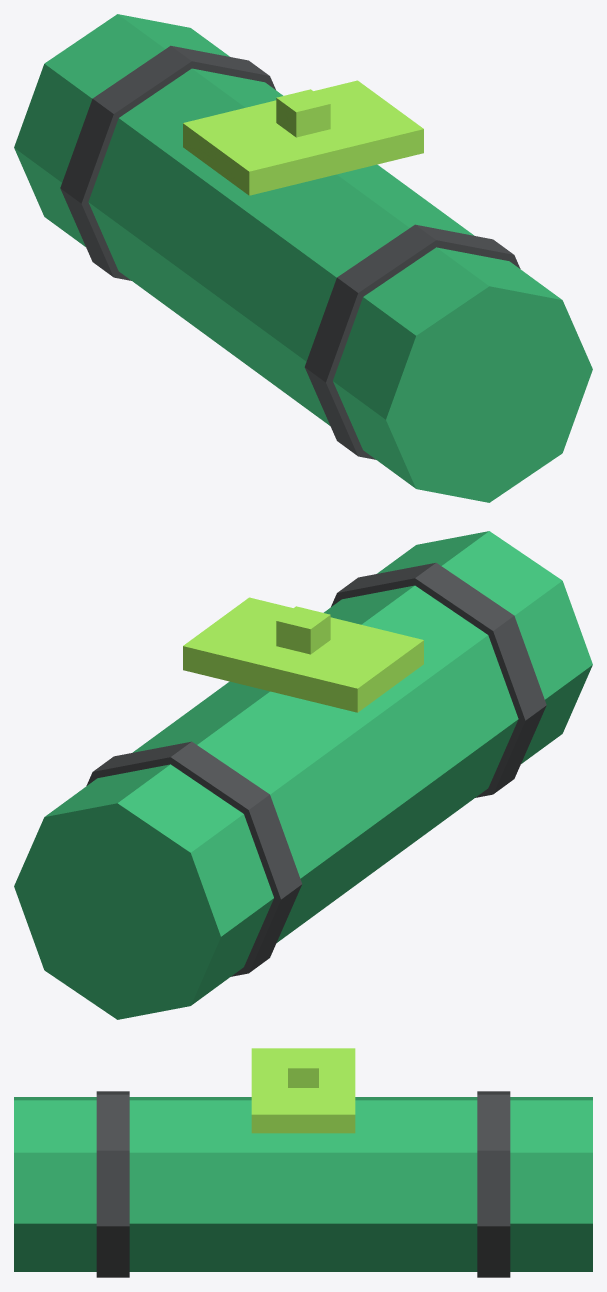
File: fuel_tank_small_mk1.glb
3 renders of one model, top to bottom at view 1: azimuth 30°, elevation 25°; view 2: azimuth 150°, elevation 25°; view 3: azimuth 270°, elevation 25°, orthographic. The views are drawn at different scales.
Parts seen in each view (by area): view 1: GEO_Fuel_Tank_Green_8Sided, GEO_Fuel_Tank_MountPlate, GEO_Fuel_Tank_DarkBand_-0.46, GEO_Fuel_Tank_DarkBand_0.46, VIS_PART_Fuel_Tank_Small_Mk1_CONN_MOUNT; view 2: GEO_Fuel_Tank_Green_8Sided, GEO_Fuel_Tank_MountPlate, GEO_Fuel_Tank_DarkBand_-0.46, GEO_Fuel_Tank_DarkBand_0.46, VIS_PART_Fuel_Tank_Small_Mk1_CONN_MOUNT; view 3: GEO_Fuel_Tank_Green_8Sided, GEO_Fuel_Tank_MountPlate, GEO_Fuel_Tank_DarkBand_-0.46, GEO_Fuel_Tank_DarkBand_0.46, VIS_PART_Fuel_Tank_Small_Mk1_CONN_MOUNT.
Part boxes in pixels (<box>): GEO_Fuel_Tank_Green_8Sided: <box>14,14,592,502</box>; GEO_Fuel_Tank_MountPlate: <box>183,80,423,195</box>; GEO_Fuel_Tank_DarkBand_-0.46: <box>304,224,520,459</box>; GEO_Fuel_Tank_DarkBand_0.46: <box>60,45,275,280</box>; VIS_PART_Fuel_Tank_Small_Mk1_CONN_MOUNT: <box>276,89,330,137</box>; GEO_Fuel_Tank_Green_8Sided: <box>14,531,592,1019</box>; GEO_Fuel_Tank_MountPlate: <box>183,597,423,712</box>; GEO_Fuel_Tank_DarkBand_-0.46: <box>331,562,546,797</box>; GEO_Fuel_Tank_DarkBand_0.46: <box>86,741,302,976</box>; VIS_PART_Fuel_Tank_Small_Mk1_CONN_MOUNT: <box>276,606,330,654</box>; GEO_Fuel_Tank_Green_8Sided: <box>14,1097,592,1271</box>; GEO_Fuel_Tank_MountPlate: <box>251,1048,355,1133</box>; GEO_Fuel_Tank_DarkBand_-0.46: <box>96,1091,129,1277</box>; GEO_Fuel_Tank_DarkBand_0.46: <box>477,1091,510,1277</box>; VIS_PART_Fuel_Tank_Small_Mk1_CONN_MOUNT: <box>288,1055,318,1087</box>.
Size of the model in its own units: 0.48 by 0.5675 by 1.4.
